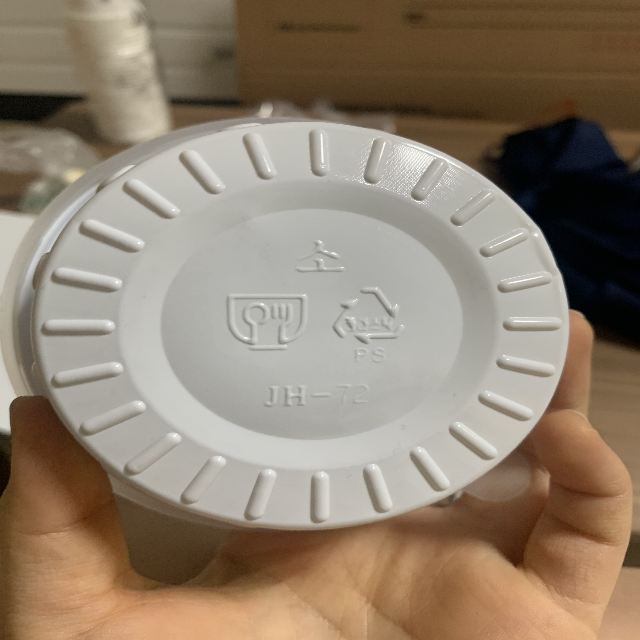ps: (326, 274, 410, 366)
